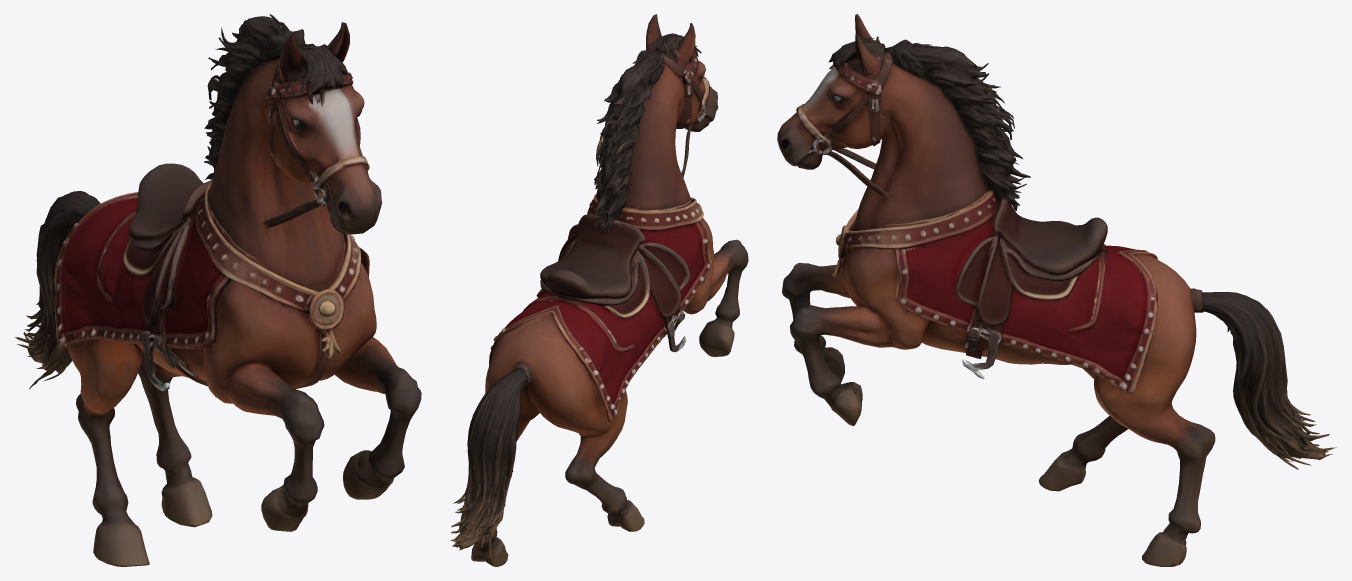
Rendered from warhorse.glb.
The picture shows the model from 3 angles, left to right: view 1: azimuth 30°, elevation 25°; view 2: azimuth 150°, elevation 25°; view 3: azimuth 270°, elevation 25°; orthographic projection. The views are drawn at different scales.
Visible parts, largest first — view 1: node_789c724a-758c-4c95-9714-e4ee0695d11b; view 2: node_789c724a-758c-4c95-9714-e4ee0695d11b; view 3: node_789c724a-758c-4c95-9714-e4ee0695d11b.
Boxes of the visible parts, x1,y1,x2,y2 form: node_789c724a-758c-4c95-9714-e4ee0695d11b: (15,14,421,566); node_789c724a-758c-4c95-9714-e4ee0695d11b: (450,14,748,566); node_789c724a-758c-4c95-9714-e4ee0695d11b: (777,14,1337,566).
Bounding box in the file's own units: 0.2868 × 1 × 0.9907.
1 material, 1 textured.
